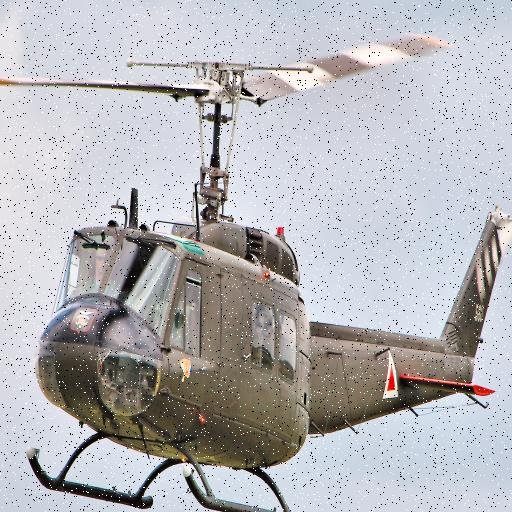helicopter: (1, 37, 512, 512)
